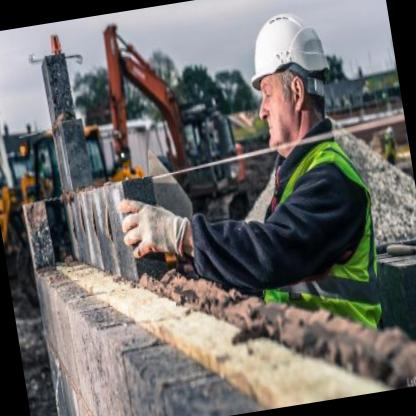helmet: (230, 0, 339, 155)
